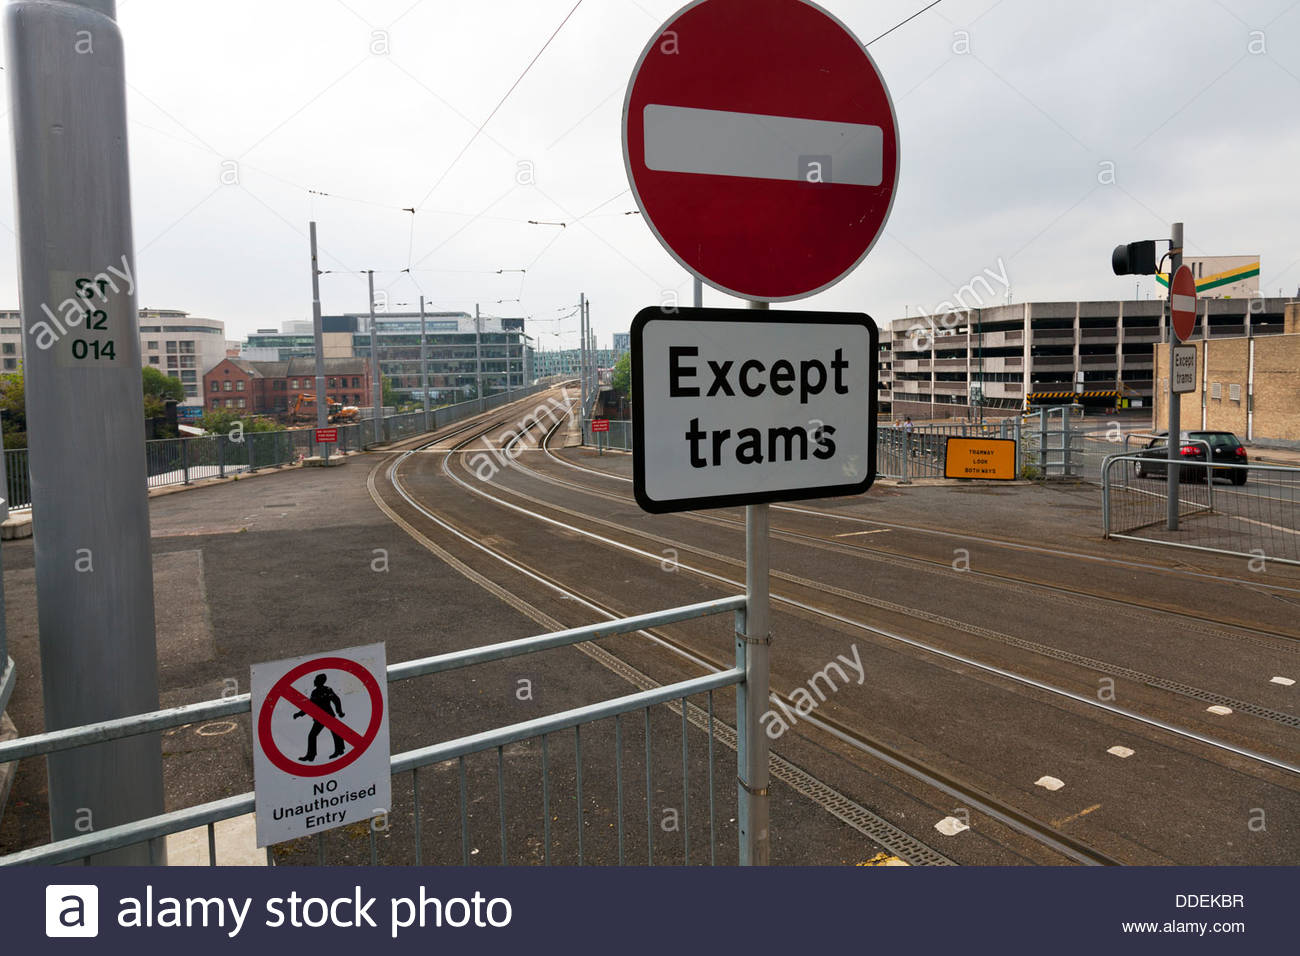No_entry: (619, 1, 903, 305)
